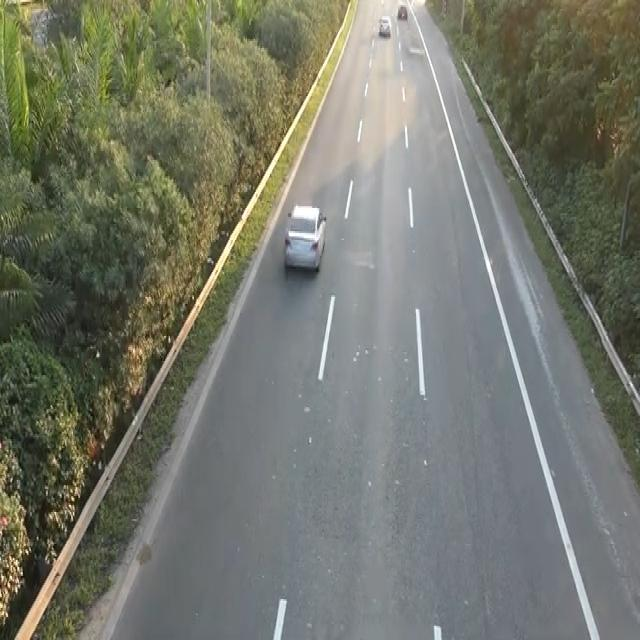bus: (281, 199, 328, 274)
